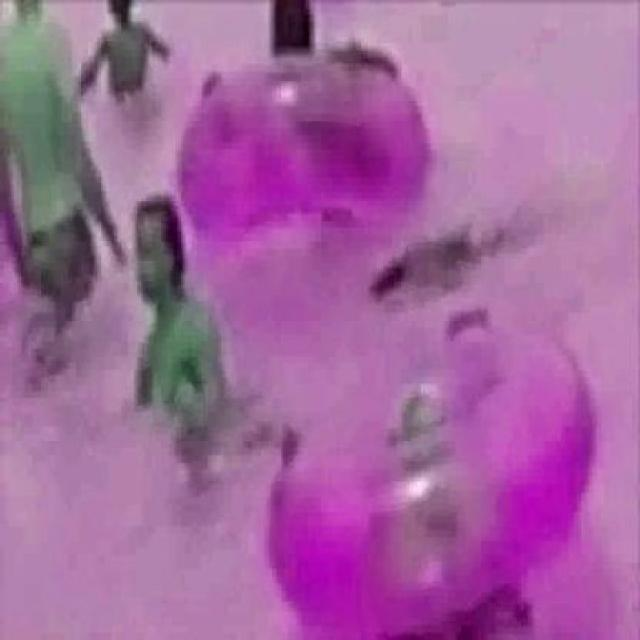drowning: (132, 194, 212, 435), (370, 230, 496, 304), (81, 0, 161, 94)
